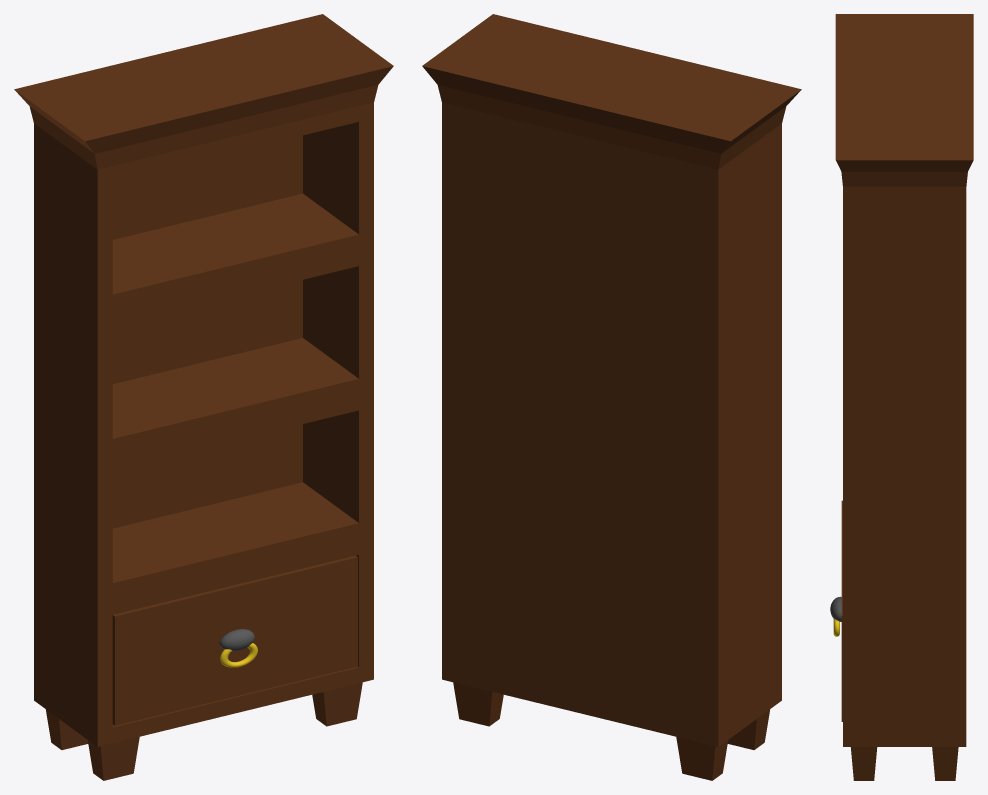
File: Cabinet.fbx
3 renders of one model, left to right at view 1: azimuth 30°, elevation 25°; view 2: azimuth 150°, elevation 25°; view 3: azimuth 270°, elevation 25°, orthographic. The views are drawn at different scales.
Visible parts, largest first — view 1: Cabinet, Handle; view 2: Cabinet; view 3: Cabinet, Handle.
Part boxes in pixels (box(x1,y1,x2,y2)): Cabinet: box(14, 14, 393, 780); Handle: box(219, 629, 257, 667); Cabinet: box(422, 14, 801, 780); Cabinet: box(835, 14, 973, 780); Handle: box(830, 596, 841, 636).
Bounding box in the file's own units: 112 × 226 × 46.37.
